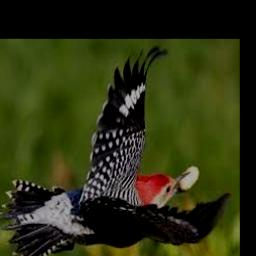Woodpecker: (0, 45, 231, 256)
